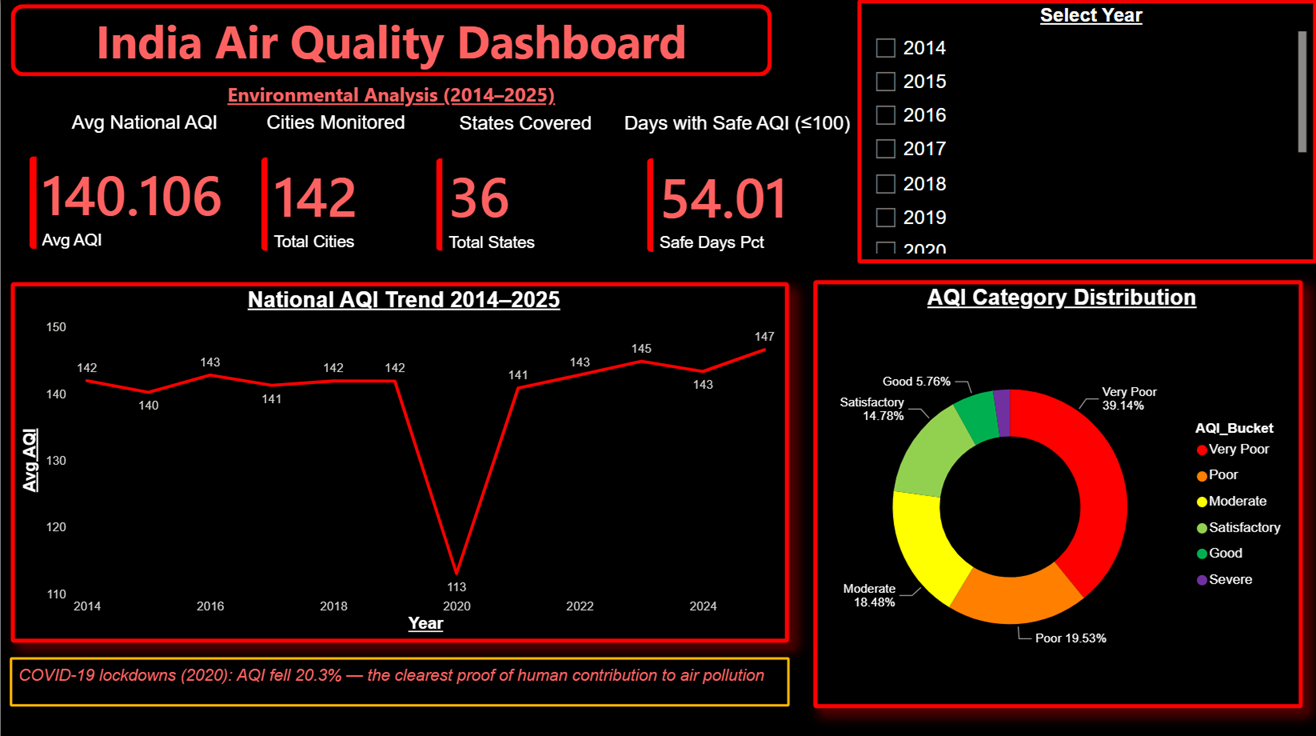

Layout of this report page (visuals, bound fields, positions):
{"tool":"powerbi","page":{"name":"National Overview","canvas":[1280,720],"ordinal":0},"visuals":[{"type":"textbox","box":[10,75,740,35],"z":0},{"type":"cardVisual","title":"Avg National AQI","fields":{"Data":["Fact_AQI.Avg AQI"]},"box":[0,108.6,280,164.3],"z":1000},{"type":"cardVisual","title":"Cities Monitored","fields":{"Data":["Fact_AQI.Total Cities"]},"box":[224.3,108.6,202.9,165.7],"z":2000},{"type":"cardVisual","title":"States Covered","fields":{"Data":["Fact_AQI.Total States"]},"box":[394.3,110,231.4,164.3],"z":3000},{"type":"cardVisual","title":"Days with Safe AQI (≤100)","fields":{"Data":["Fact_AQI.Safe Days Pct"]},"box":[600,110,232.9,165.7],"z":4000},{"type":"lineChart","title":"National AQI Trend 2014–2025","fields":{"Category":["Dim_Date.Year"],"Y":["Fact_AQI.Avg AQI"]},"box":[10,275,756.7,350],"z":5000},{"type":"textbox","box":[8.3,640,758.3,48.3],"z":6000},{"type":"donutChart","title":"AQI Category Distribution","fields":{"Category":["Fact_AQI.AQI_Bucket"],"Y":["Sum(Fact_AQI.AQI)"]},"box":[790,272.9,475.7,415.7],"z":7000},{"type":"slicer","title":"Select Year","fields":{"Values":["Dim_Date.Year"]},"box":[832.9,0,447.1,257.1],"z":8000},{"type":"shape","box":[10,5,740,70],"z":9000}]}

Visuals, with their boxes in screenshot pixels (x1, y1, x2, y2), scaled from the page's 1280x720 canvas onto the 1316x736 screenshot:
textbox: detection(10, 77, 771, 112)
"Avg National AQI" cardVisual: detection(0, 111, 288, 279)
"Cities Monitored" cardVisual: detection(231, 111, 439, 280)
"States Covered" cardVisual: detection(405, 112, 643, 280)
"Days with Safe AQI (≤100)" cardVisual: detection(617, 112, 856, 282)
"National AQI Trend 2014–2025" lineChart: detection(10, 281, 788, 639)
textbox: detection(9, 654, 788, 704)
"AQI Category Distribution" donutChart: detection(812, 279, 1301, 704)
"Select Year" slicer: detection(856, 0, 1315, 263)
shape: detection(10, 5, 771, 77)
